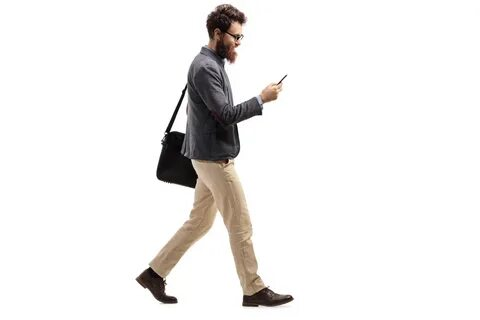awake: (134, 3, 294, 307)
